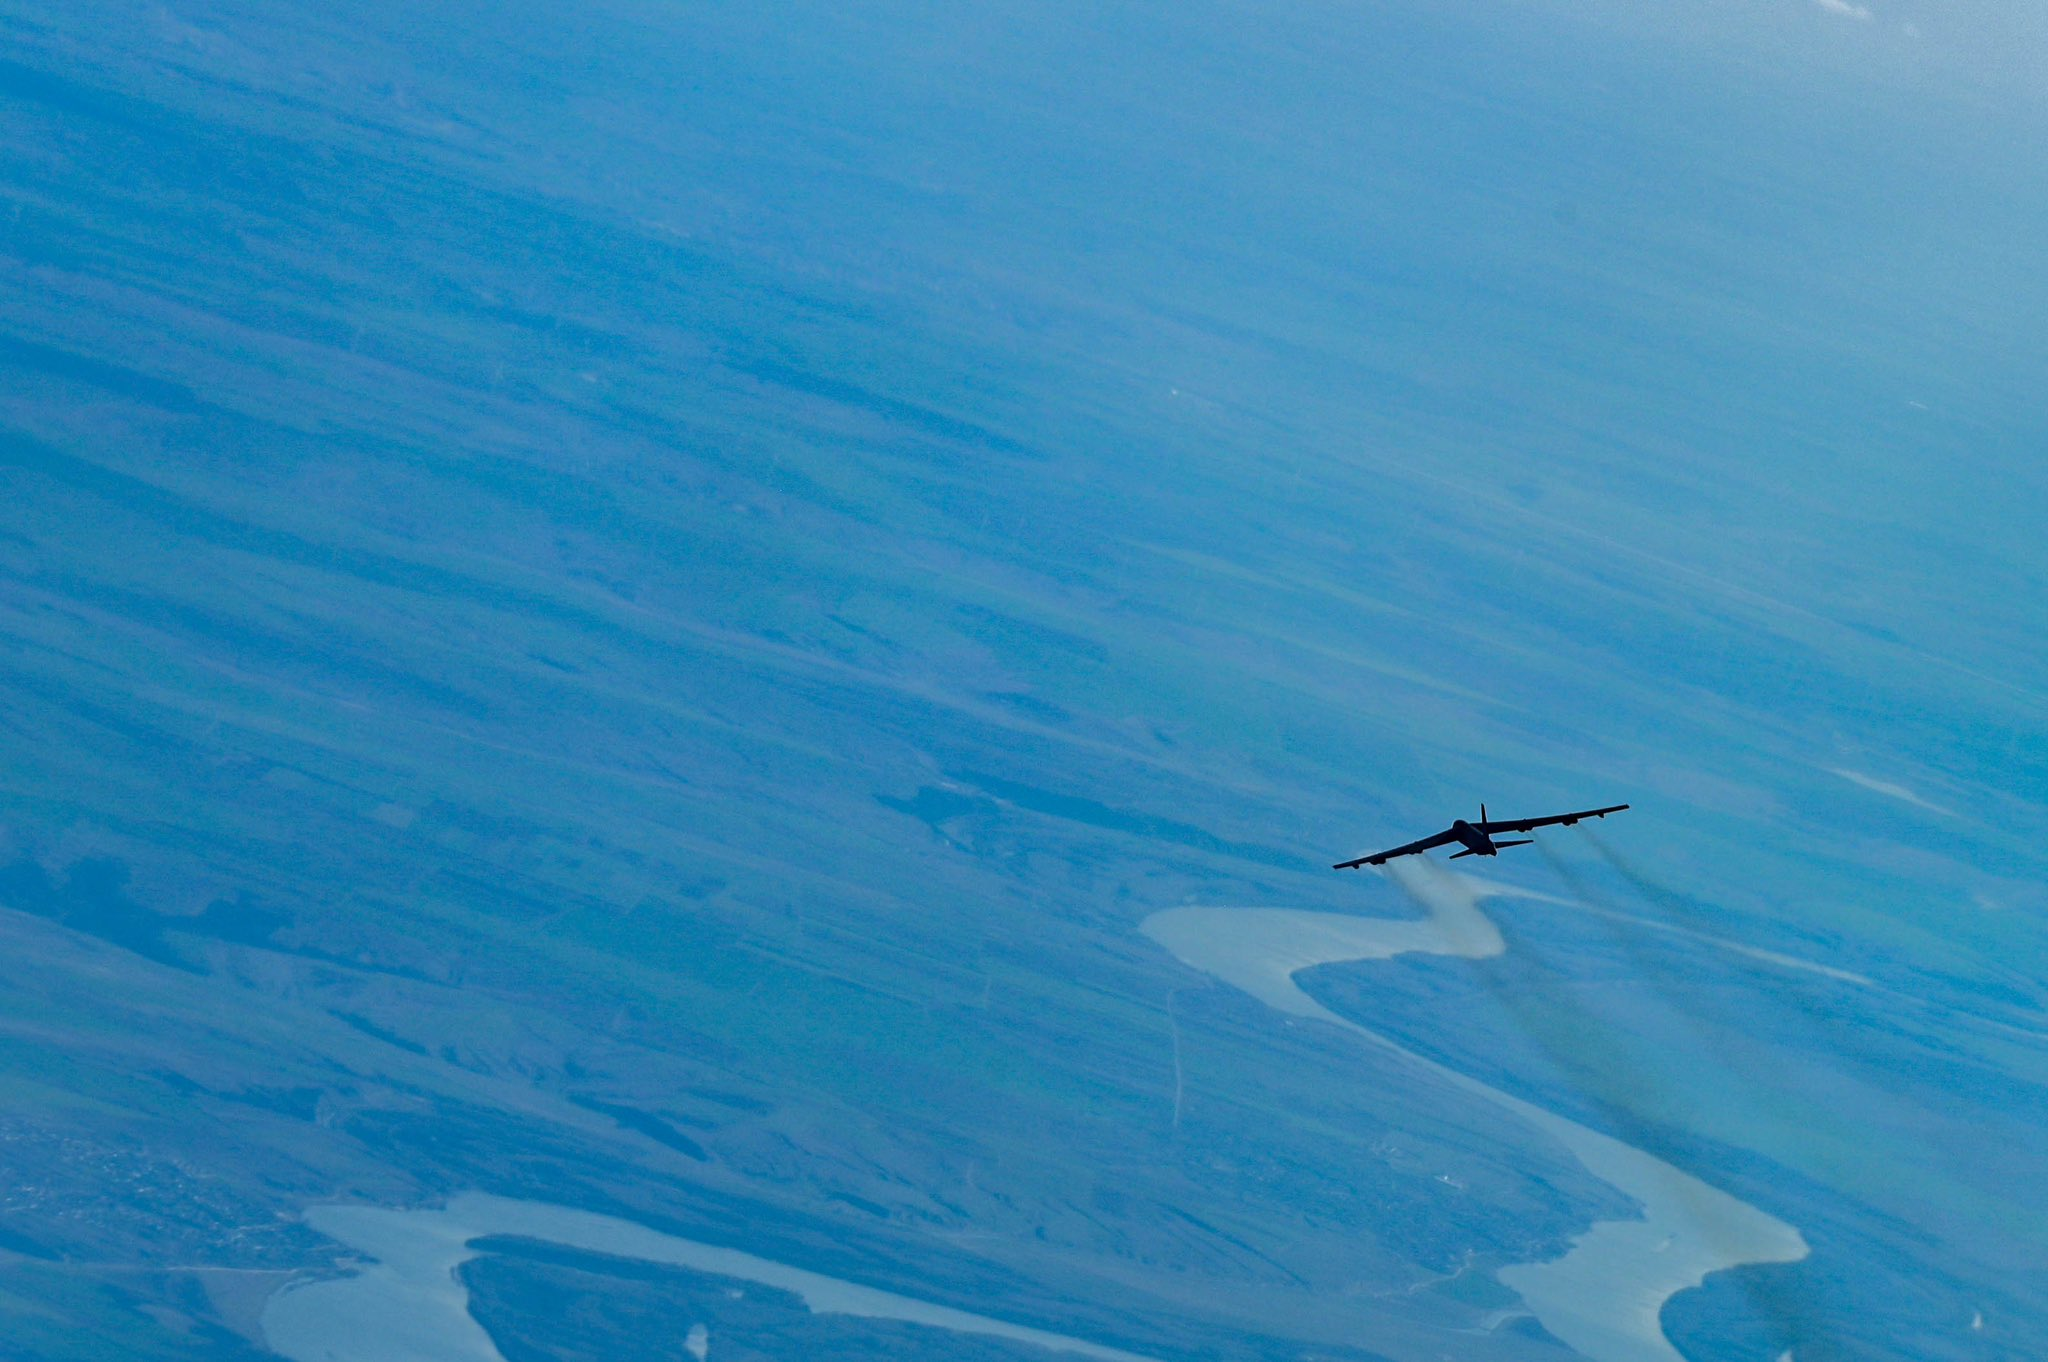B52: (1332, 803, 1630, 869)
